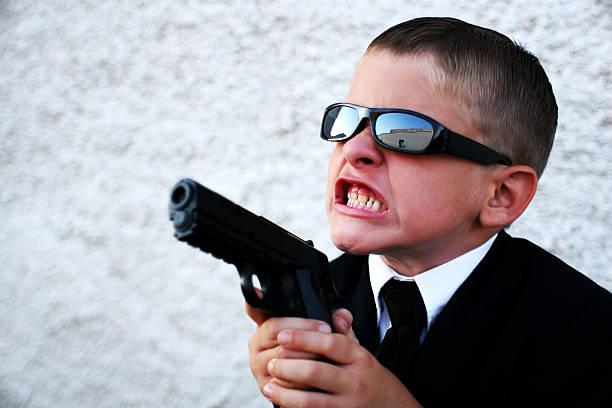weapon: (165, 177, 345, 329)
